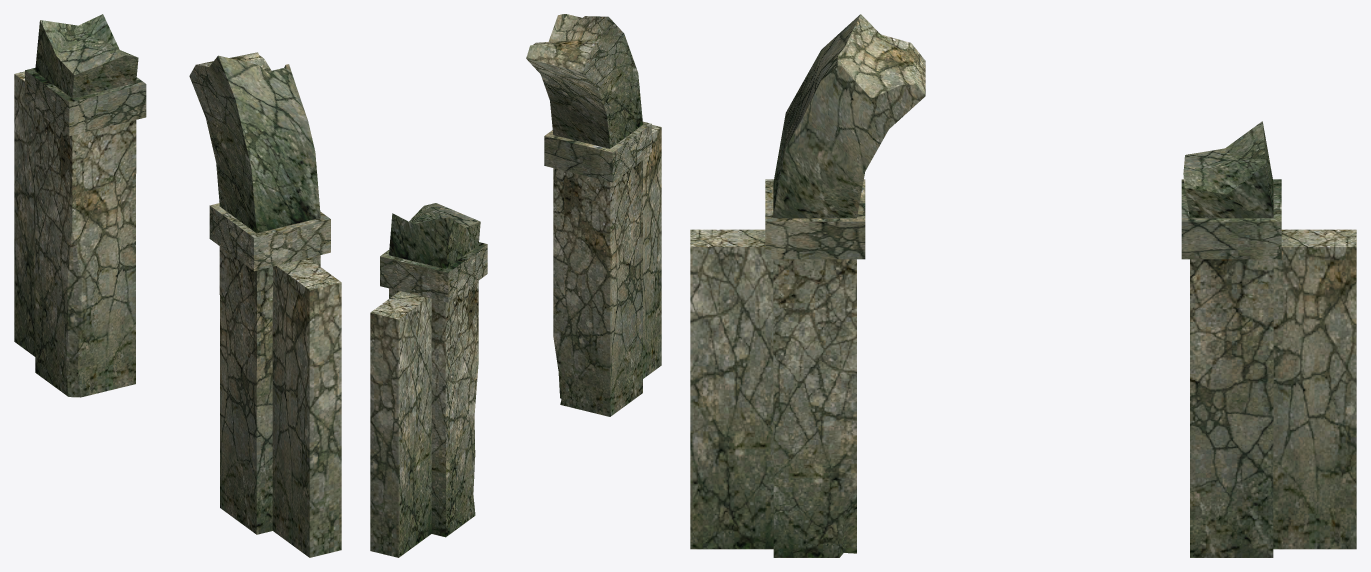
File: thm_nboo_gungan_damaged_wide_arch_s01_l0.fbx
3 renders of one model, left to right at view 1: azimuth 30°, elevation 25°; view 2: azimuth 150°, elevation 25°; view 3: azimuth 270°, elevation 25°, orthographic. The views are drawn at different scales.
Parts seen in each view (by area): view 1: mesh_node; view 2: mesh_node; view 3: mesh_node.
Part boxes in pixels (left/top/right/bottom): mesh_node: left=14, top=14, right=341, bottom=557; mesh_node: left=370, top=14, right=661, bottom=557; mesh_node: left=690, top=14, right=1356, bottom=557.
Size of the model in its own units: 1.2 by 6.74 by 8.
